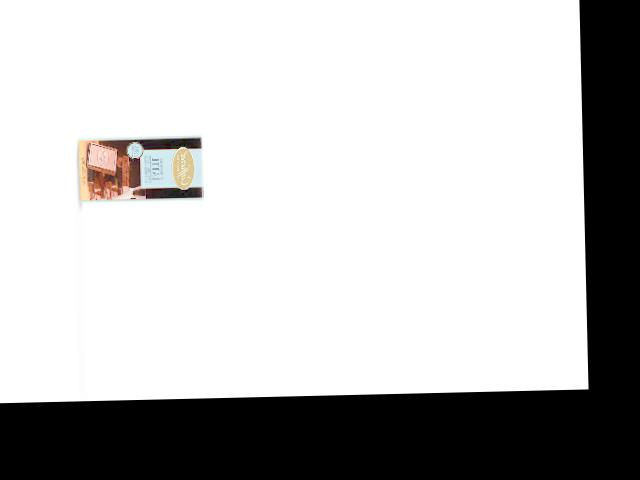chocolate: (76, 134, 204, 205)
